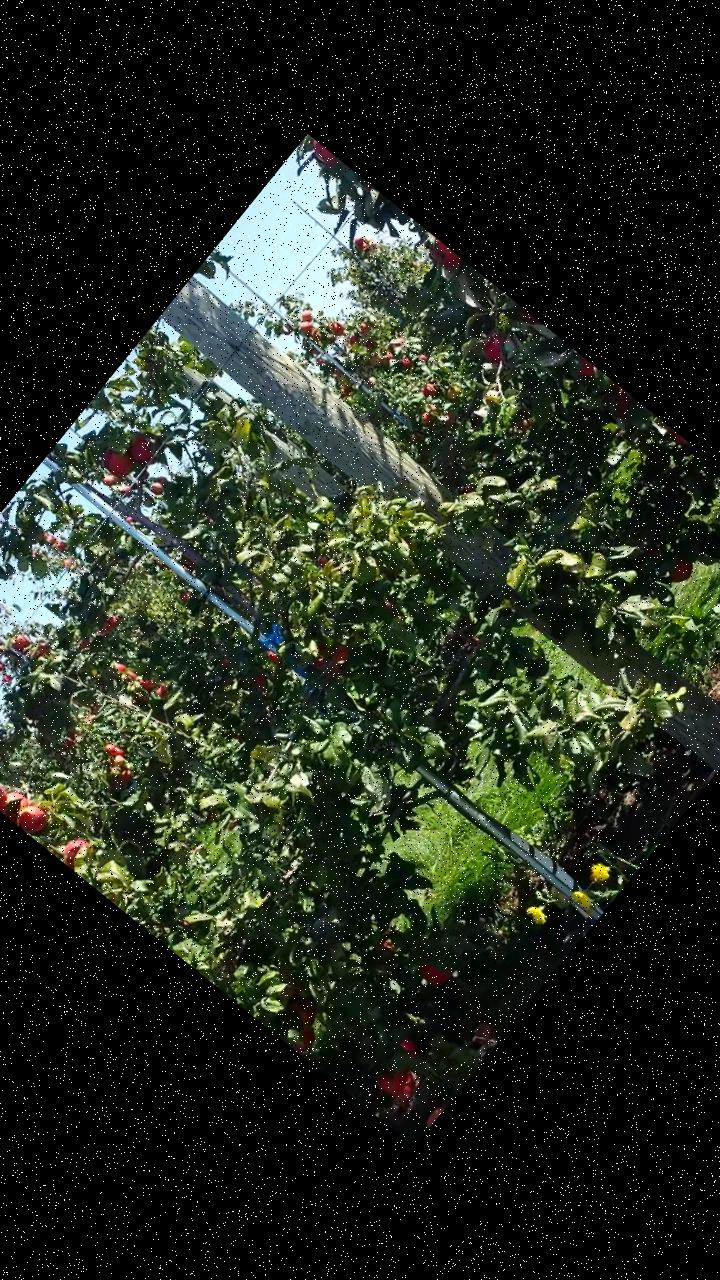Apple: (371, 1056, 420, 1105), (94, 442, 134, 482), (9, 796, 49, 836), (311, 638, 348, 676), (122, 432, 158, 467), (424, 238, 460, 272), (662, 554, 695, 588), (478, 333, 510, 365), (57, 832, 88, 864), (304, 138, 337, 168), (288, 1022, 318, 1054), (415, 960, 446, 989), (0, 784, 30, 812), (602, 386, 631, 414), (290, 998, 318, 1026), (0, 776, 14, 813), (662, 427, 684, 447), (572, 356, 592, 377), (397, 1036, 417, 1056), (375, 596, 395, 614), (249, 672, 266, 689), (314, 554, 328, 569), (262, 648, 277, 662)
